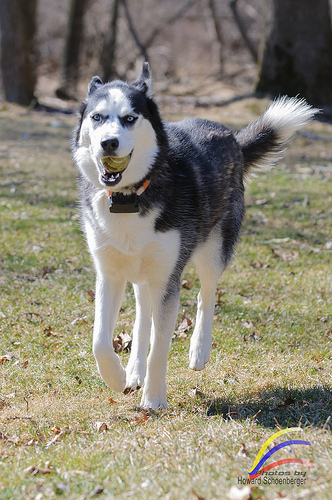dog: (71, 60, 321, 412)
